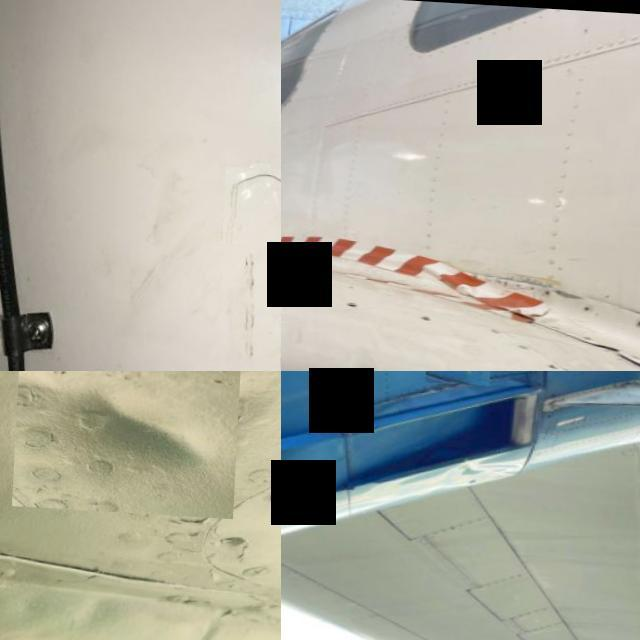Crack: (228, 166, 281, 193), (592, 337, 627, 352)
Dent: (16, 371, 244, 513)
Missing_Fastener: (584, 299, 600, 308), (550, 359, 564, 365), (636, 312, 640, 321)
